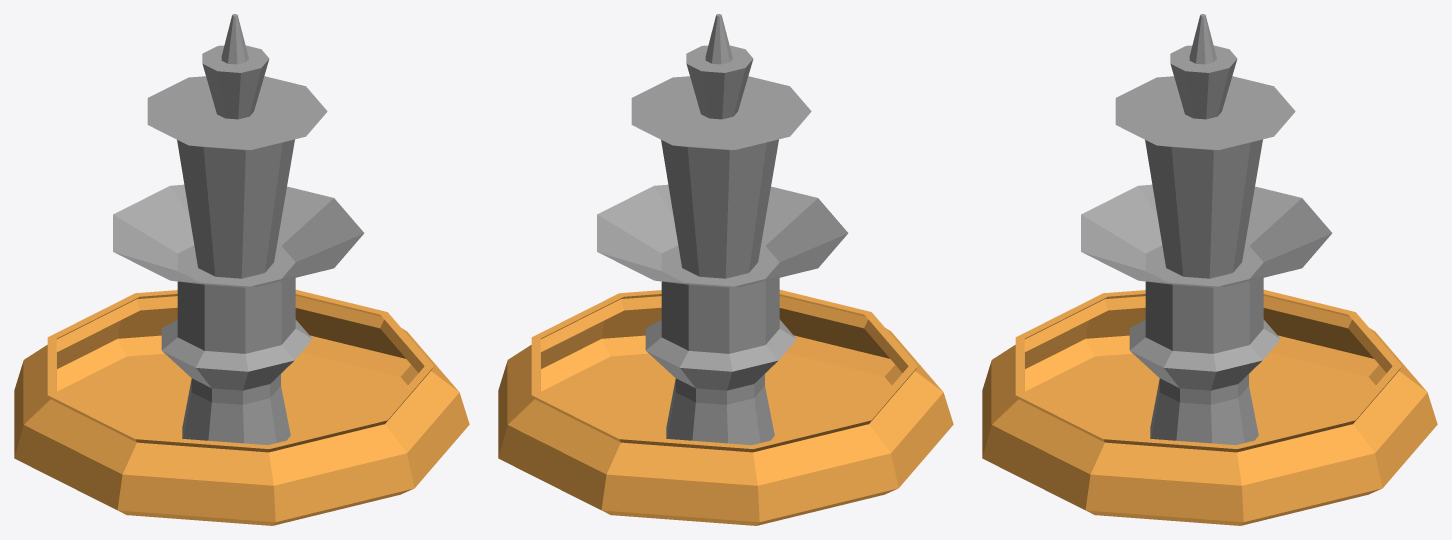
The model's file is Fountain.fbx.
3 renders of one model, left to right at view 1: azimuth 30°, elevation 25°; view 2: azimuth 150°, elevation 25°; view 3: azimuth 270°, elevation 25°, orthographic.
Visible parts, largest first — view 1: Cylinder; view 2: Cylinder; view 3: Cylinder.
Boxes of the visible parts, box(x1,y1,x2,y2) form: Cylinder: box(14, 14, 469, 525); Cylinder: box(498, 14, 953, 525); Cylinder: box(982, 14, 1437, 525).
Bounding box in the file's own units: 321 × 322 × 316.
1 material, 1 textured.
